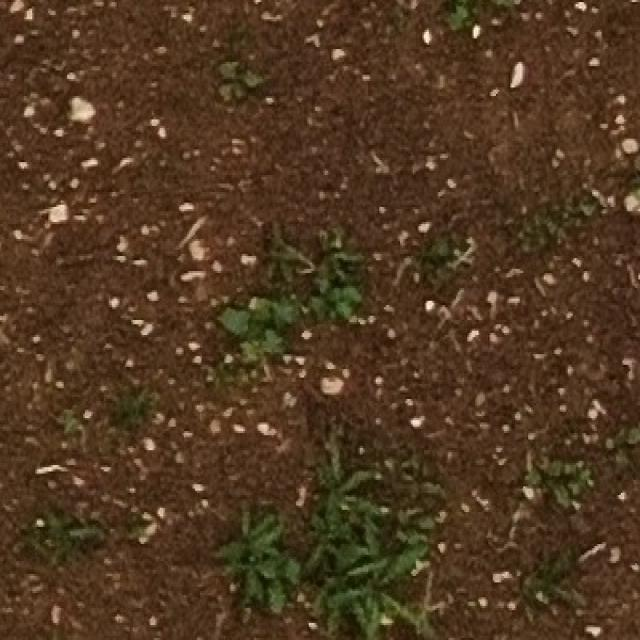cirse: (306, 533, 426, 624), (319, 574, 447, 640), (327, 573, 443, 640), (219, 505, 292, 611), (221, 486, 293, 593), (219, 526, 292, 629), (316, 434, 379, 533), (325, 449, 387, 546), (323, 457, 389, 548), (526, 515, 588, 596), (509, 516, 572, 595), (500, 560, 562, 637), (386, 458, 434, 551), (400, 448, 447, 539), (397, 454, 444, 543), (246, 224, 296, 291), (250, 225, 299, 292), (261, 234, 307, 301)
